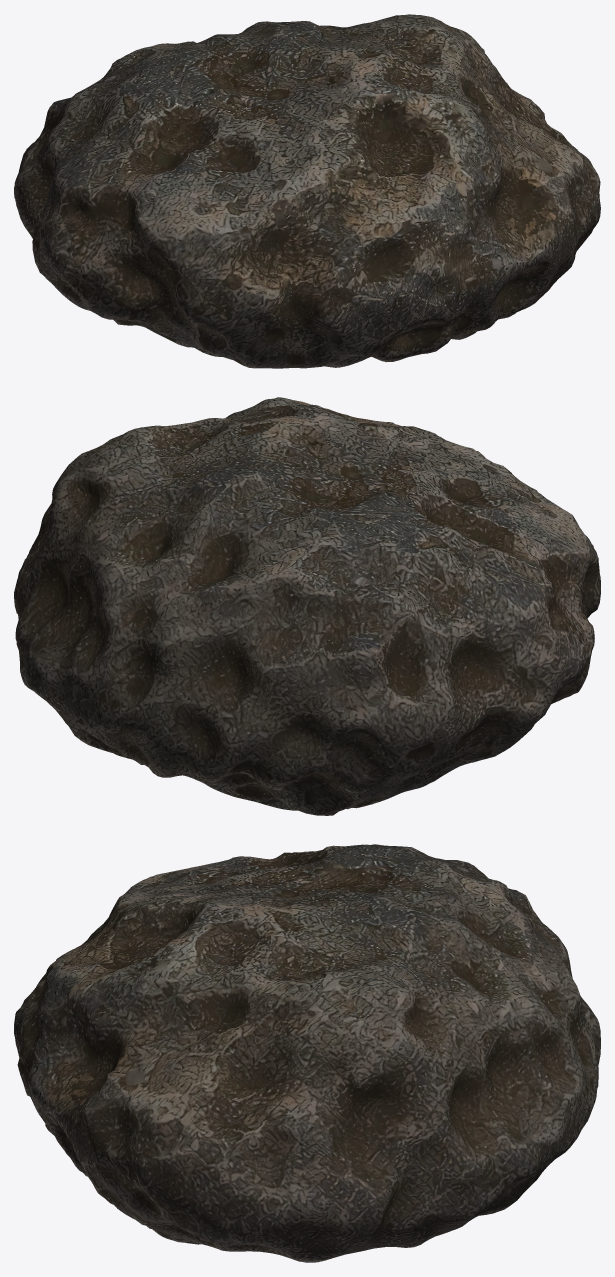
File: asteroid_common_3.remesh.glb
3 renders of one model, top to bottom at view 1: azimuth 30°, elevation 25°; view 2: azimuth 150°, elevation 25°; view 3: azimuth 270°, elevation 25°, orthographic. The views are drawn at different scales.
Parts seen in each view (by area): view 1: model; view 2: model; view 3: model.
Boxes of the visible parts, x1,y1,x2,y2 form: model: [14, 14, 600, 368]; model: [14, 397, 600, 815]; model: [14, 844, 600, 1262].
Bounding box in the file's own units: 1.89 × 0.9696 × 1.7.
Materials: 1 (1 with a texture image).
